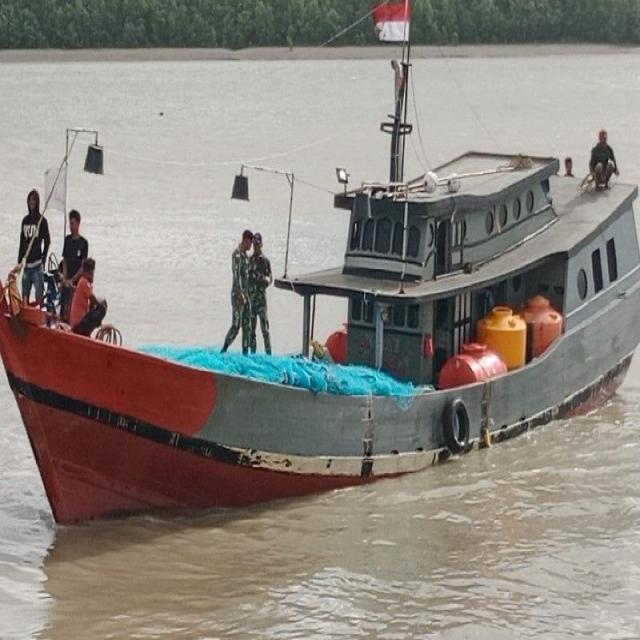Fishing Boat: (0, 108, 638, 541)
